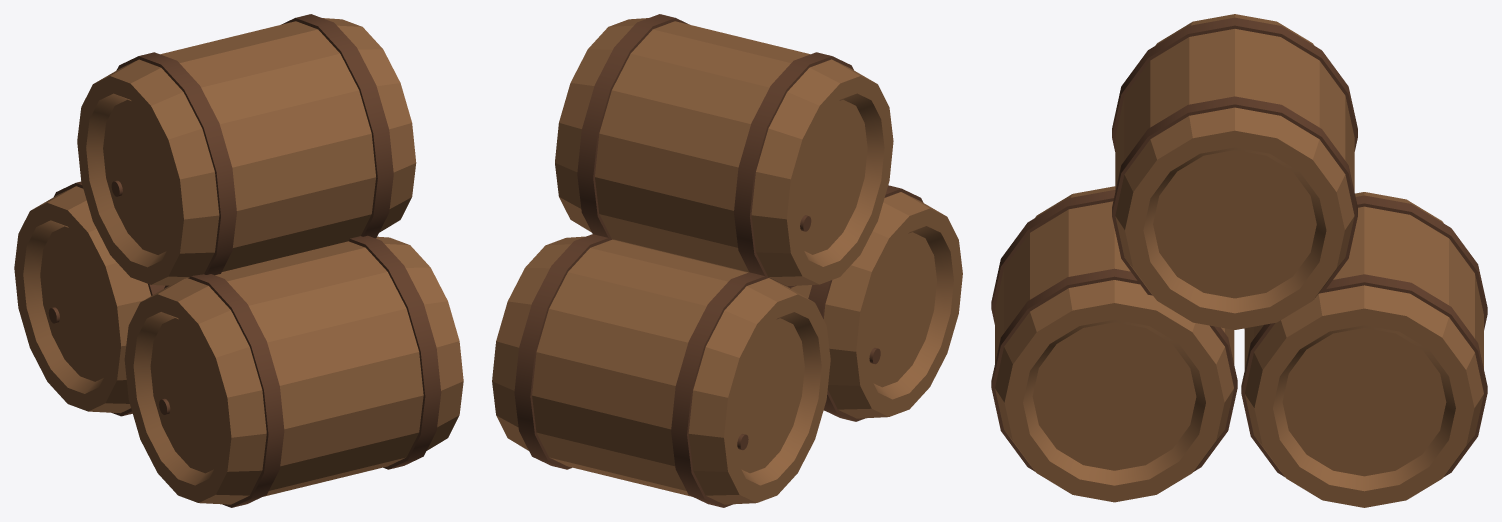
Rendered from props_v3.fbx.
The picture shows the model from 3 angles, left to right: view 1: azimuth 30°, elevation 25°; view 2: azimuth 150°, elevation 25°; view 3: azimuth 270°, elevation 25°; orthographic projection. The views are drawn at different scales.
Visible parts, largest first — view 1: pile v2; view 2: pile v2; view 3: pile v2.
Part boxes in pixels (left/top/right/bottom): pile v2: left=14, top=14, right=463, bottom=507; pile v2: left=492, top=14, right=962, bottom=507; pile v2: left=991, top=14, right=1487, bottom=507.
Bounding box in the file's own units: 96.16 × 147 × 165.
1 material, 1 textured.
